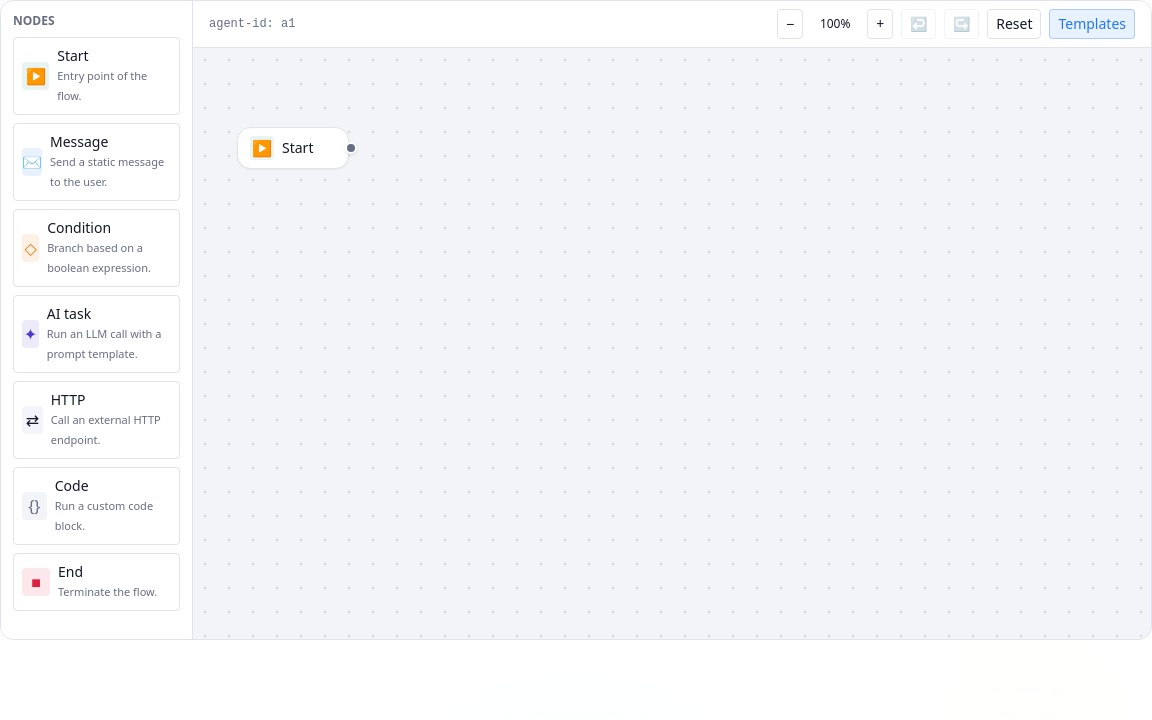
Test case: Node config sidebar › clicking a node opens the sidebar with no fields for start nodes
Click the button with test id "flow-node-start-1" at (293, 148), box [237,127,349,169]
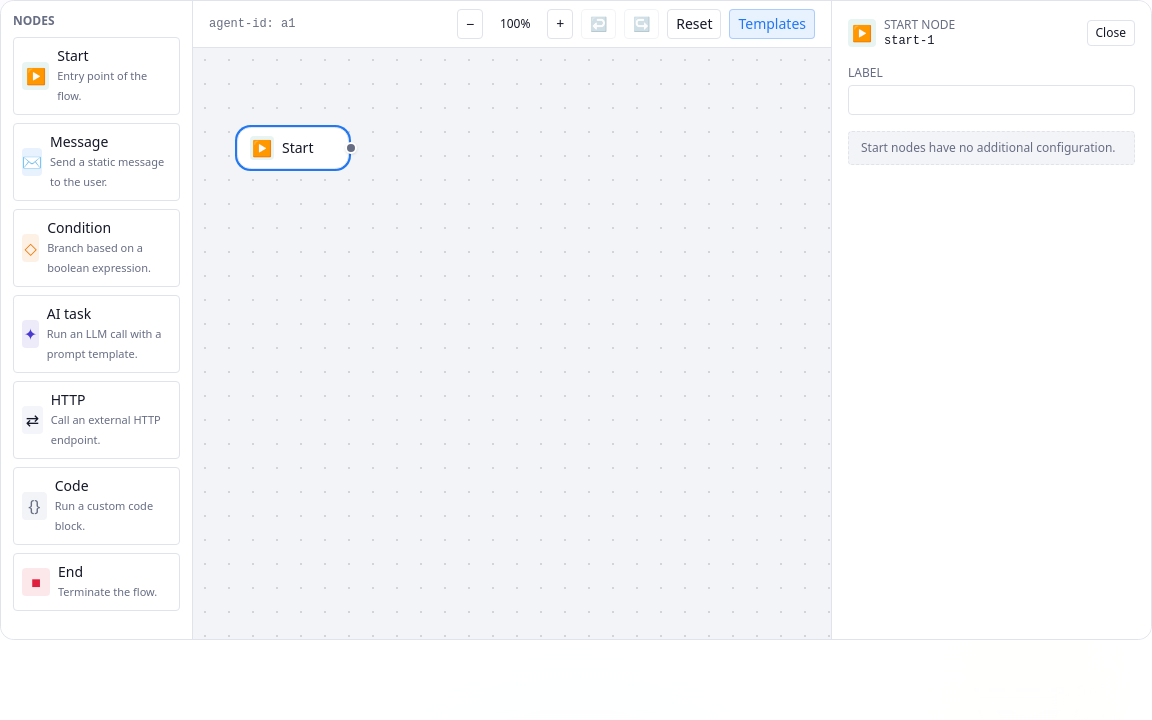
Check: the element with test id "node-sidebar" is shown, box [831,1,1151,639]
Check: the text with test id "node-sidebar-id" reads "start-1", box [884,34,934,48]
Check: the text "Start nodes have no additional configuration." is shown, box [848,131,1135,165]
